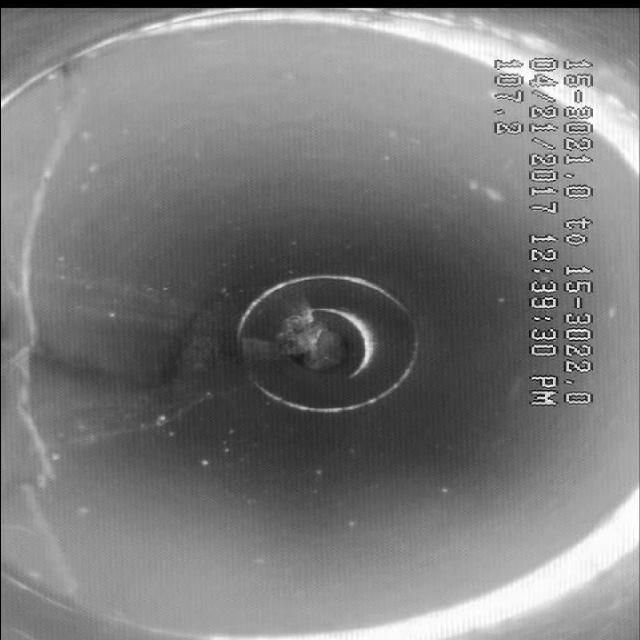Crack: (1, 119, 120, 567)
